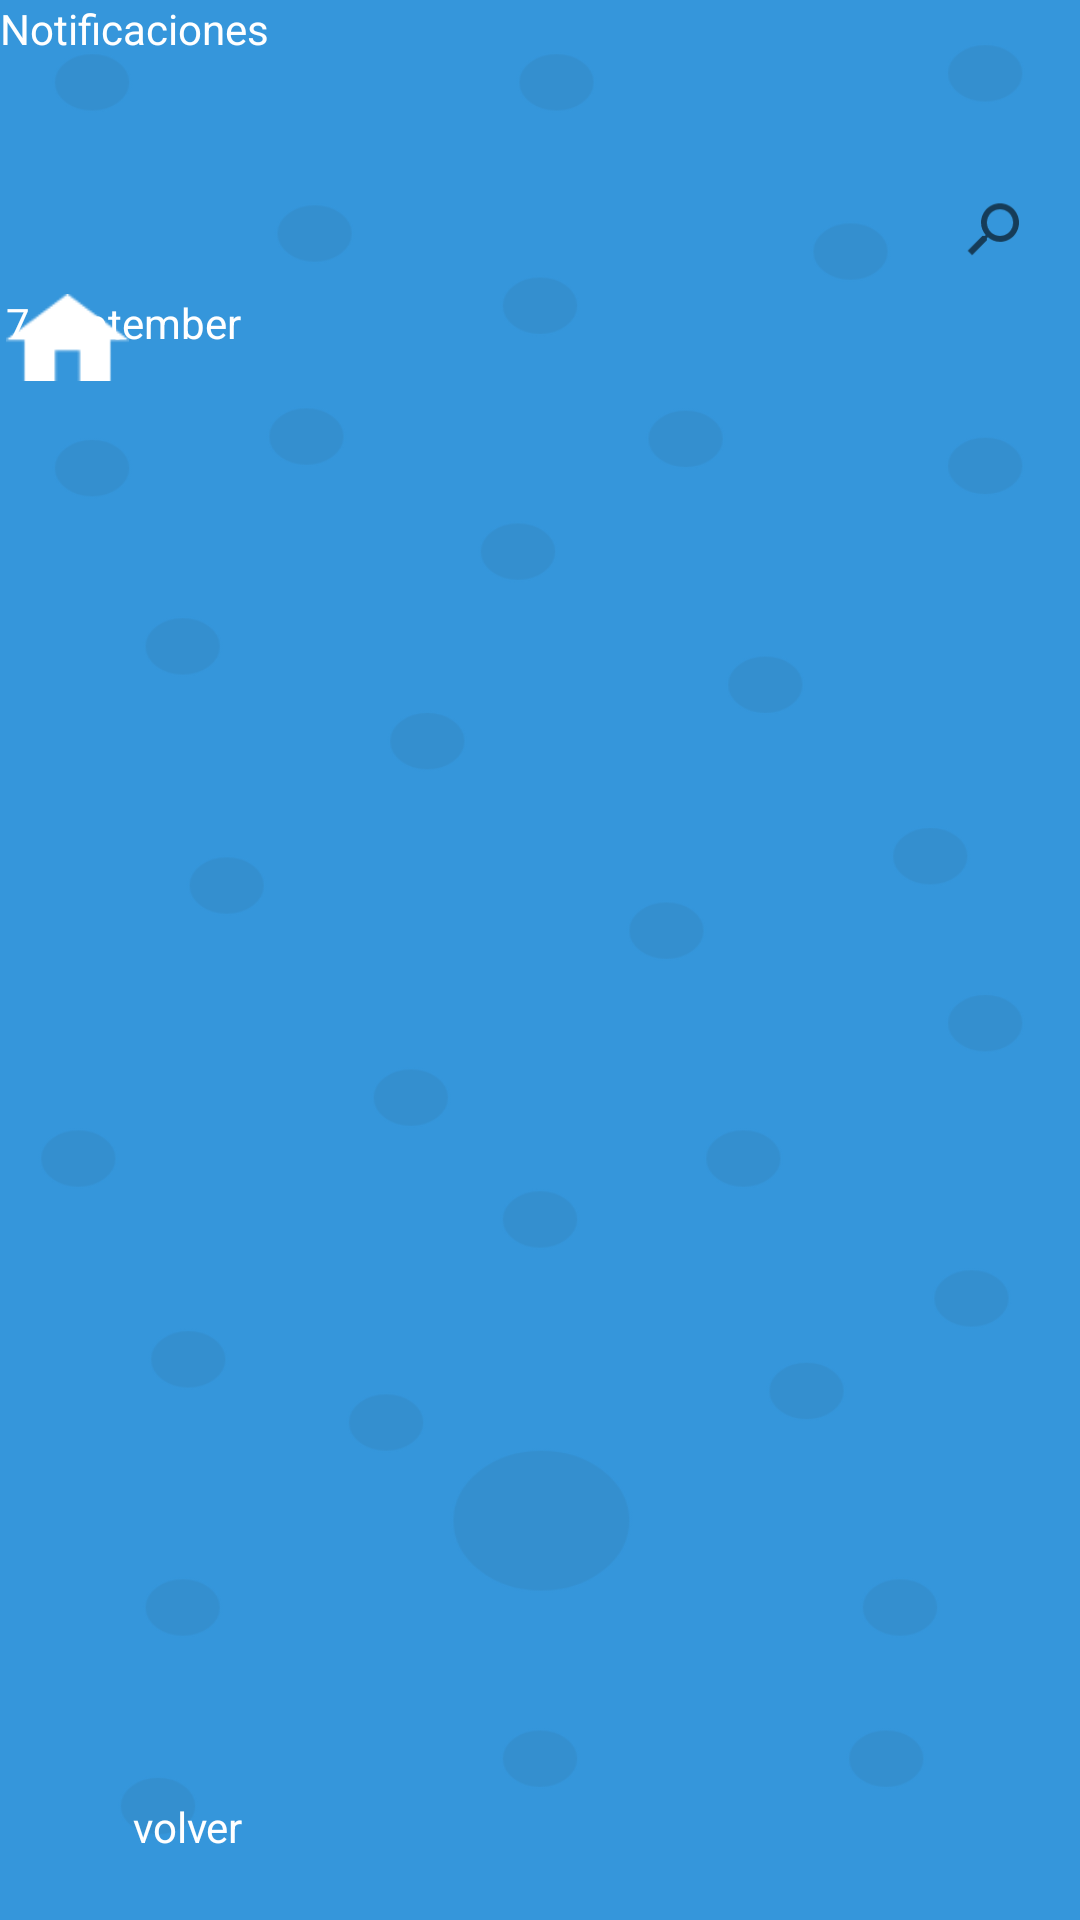

Locate icon controls on the screen. Image size 1080w x 1920h, boxes as [x1=x1, y1=y1, x2=x2, y2=y2].
home: [x1=6, y1=294, x2=129, y2=381]
